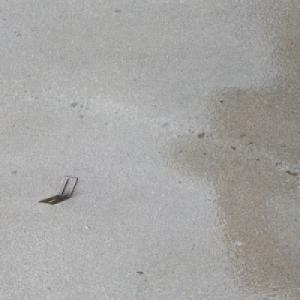MetalPart: (36, 175, 78, 205)
